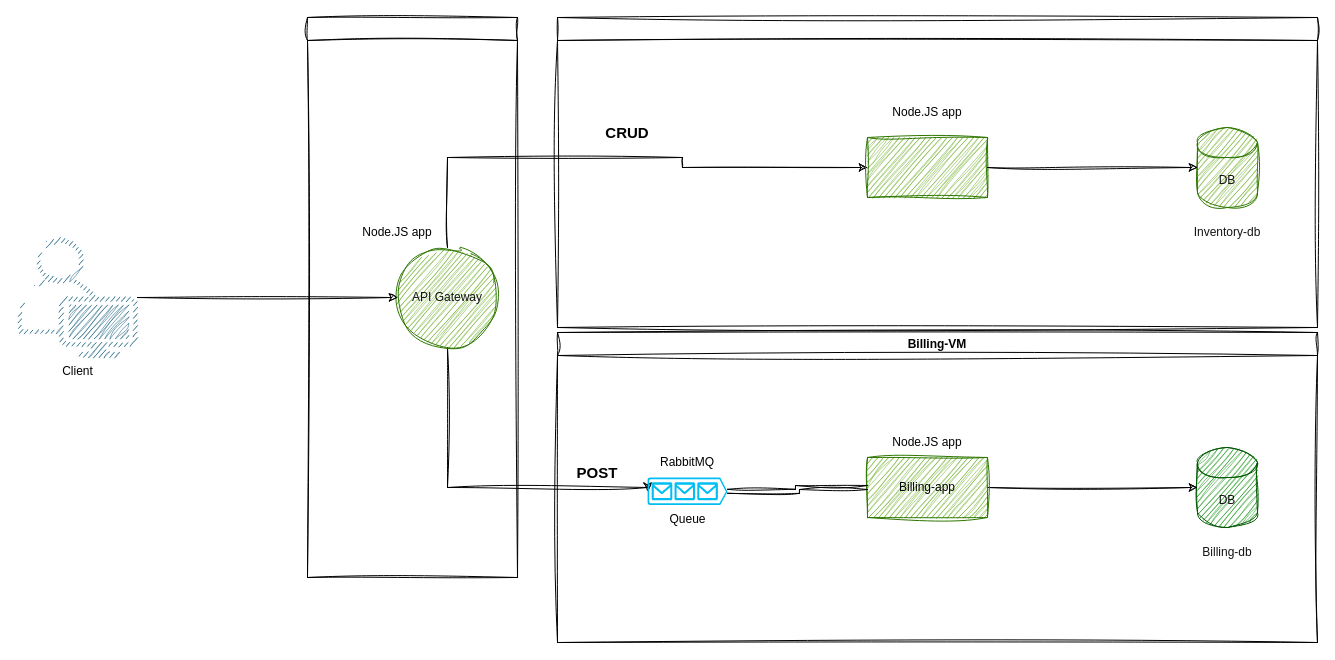
The diagram is 1335 pixels wide and 660 high, and some of its shapes have lost their labels. Each missing label, with the box of its shape:
Gateway-VM: (306, 16, 518, 578)
Inventory-app: (866, 136, 988, 198)
Inventory-VM: (556, 16, 1318, 328)
